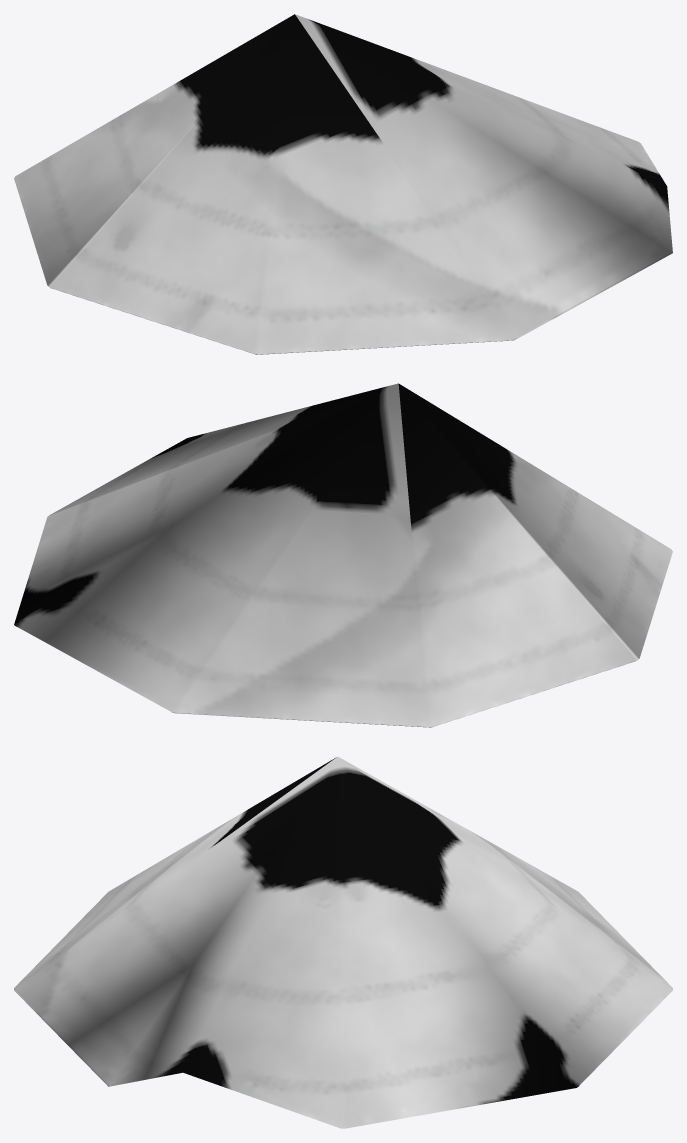
Rendered from RightHand_C1.fbx.
3 renders of one model, top to bottom at view 1: azimuth 30°, elevation 25°; view 2: azimuth 150°, elevation 25°; view 3: azimuth 270°, elevation 25°, orthographic. The views are drawn at different scales.
Visible parts, largest first — view 1: Civ_ParaguasAbierto_RightHand_C1; view 2: Civ_ParaguasAbierto_RightHand_C1; view 3: Civ_ParaguasAbierto_RightHand_C1.
Boxes of the visible parts, bbox=[...] form: Civ_ParaguasAbierto_RightHand_C1: bbox=[14, 14, 672, 354]; Civ_ParaguasAbierto_RightHand_C1: bbox=[14, 383, 672, 727]; Civ_ParaguasAbierto_RightHand_C1: bbox=[14, 756, 672, 1128].
Size of the model in its own units: 3.91 by 1.38 by 3.91.
